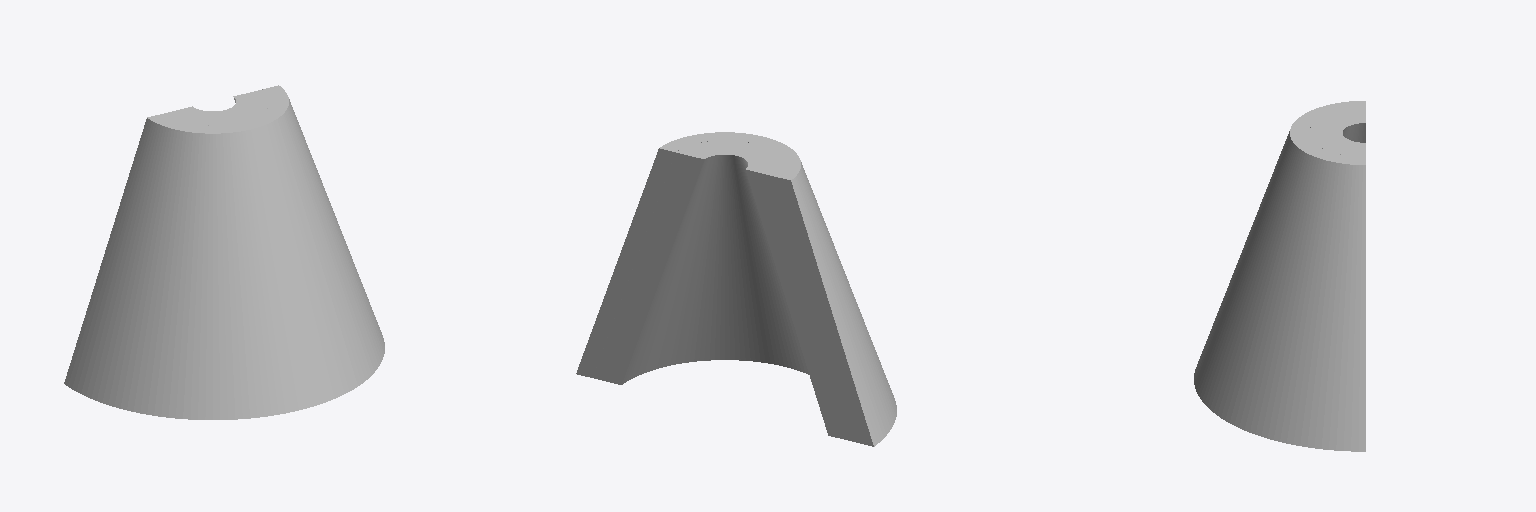
Rendered from Skin Mold 1.obj.
3 renders of one model, left to right at view 1: azimuth 30°, elevation 25°; view 2: azimuth 150°, elevation 25°; view 3: azimuth 270°, elevation 25°, orthographic.
Visible parts, largest first — view 1: mesh2, mesh18, mesh1; view 2: mesh17, mesh20, mesh19, mesh2, mesh4, mesh5, mesh18, mesh1; view 3: mesh2, mesh18, mesh1.
Boxes of the visible parts, <box> form: mesh2: <box>64,99,384,419</box>; mesh18: <box>164,90,269,125</box>; mesh1: <box>147,85,288,133</box>; mesh17: <box>622,155,808,384</box>; mesh20: <box>745,169,856,442</box>; mesh19: <box>593,153,704,384</box>; mesh2: <box>791,162,896,446</box>; mesh4: <box>576,148,675,377</box>; mesh5: <box>775,177,873,446</box>; mesh18: <box>676,140,781,175</box>; mesh1: <box>660,132,800,179</box>; mesh2: <box>1194,131,1365,451</box>; mesh18: <box>1309,109,1365,156</box>; mesh1: <box>1290,101,1365,164</box>.
Size of the model in its own units: 0.1793 by 0.1414 by 0.0897.